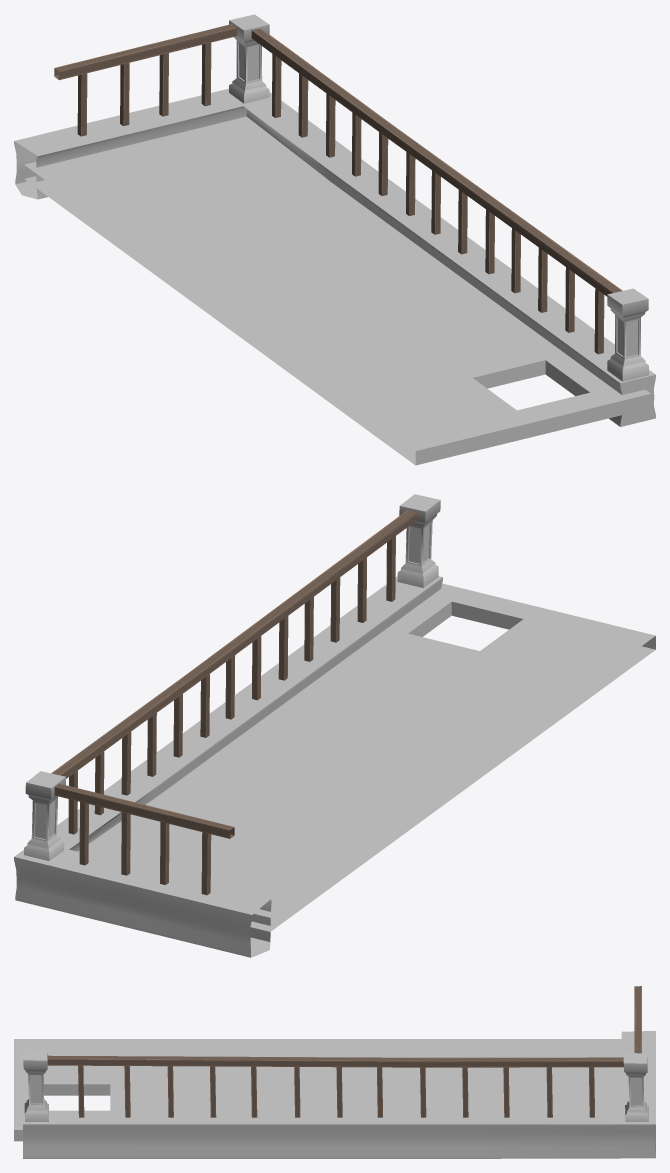
File: SM_AlchemyS_Inside_Balcony.fbx
3 views of the same model, one above another, from view 1: azimuth 30°, elevation 25°; view 2: azimuth 150°, elevation 25°; view 3: azimuth 270°, elevation 25° (orthographic). The views are drawn at different scales.
Parts seen in each view (by area): view 1: SM_AlchemyS_Inside_Balcony_LOD0; view 2: SM_AlchemyS_Inside_Balcony_LOD0; view 3: SM_AlchemyS_Inside_Balcony_LOD0.
Boxes of the visible parts, left/top/right/bottom form: SM_AlchemyS_Inside_Balcony_LOD0: left=14, top=14, right=655, bottom=465; SM_AlchemyS_Inside_Balcony_LOD0: left=14, top=494, right=655, bottom=957; SM_AlchemyS_Inside_Balcony_LOD0: left=14, top=986, right=655, bottom=1158.
Size of the model in its own units: 320 by 910 by 151.
